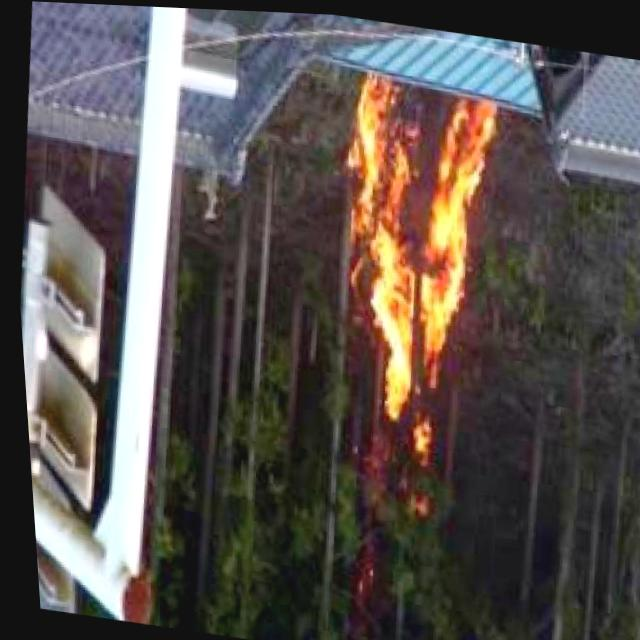helmet: (302, 76, 523, 470)
